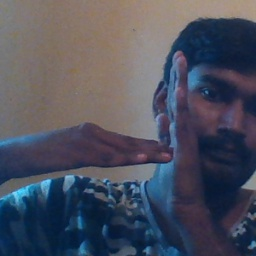Z: (84, 44, 203, 214)
